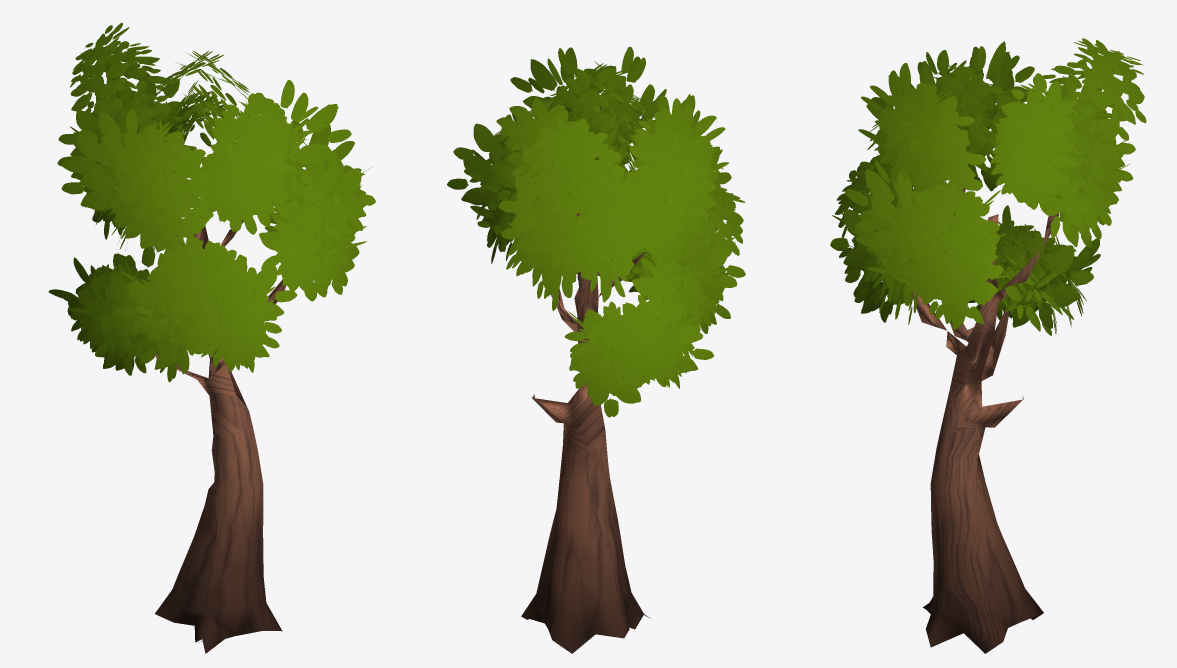
The model's file is CommonTree_5_far.gltf.
3 renders of one model, left to right at view 1: azimuth 30°, elevation 25°; view 2: azimuth 150°, elevation 25°; view 3: azimuth 270°, elevation 25°, orthographic.
Parts seen in each view (by area): view 1: CommonTree_5; view 2: CommonTree_5; view 3: CommonTree_5.
Part boxes in pixels (x1=…): CommonTree_5: x1=48, y1=23, x2=375, y2=653; CommonTree_5: x1=447, y1=46, x2=745, y2=653; CommonTree_5: x1=830, y1=38, x2=1146, y2=653.
Size of the model in its own units: 3.67 by 6.49 by 3.61.
Materials: 2 (2 with a texture image).
